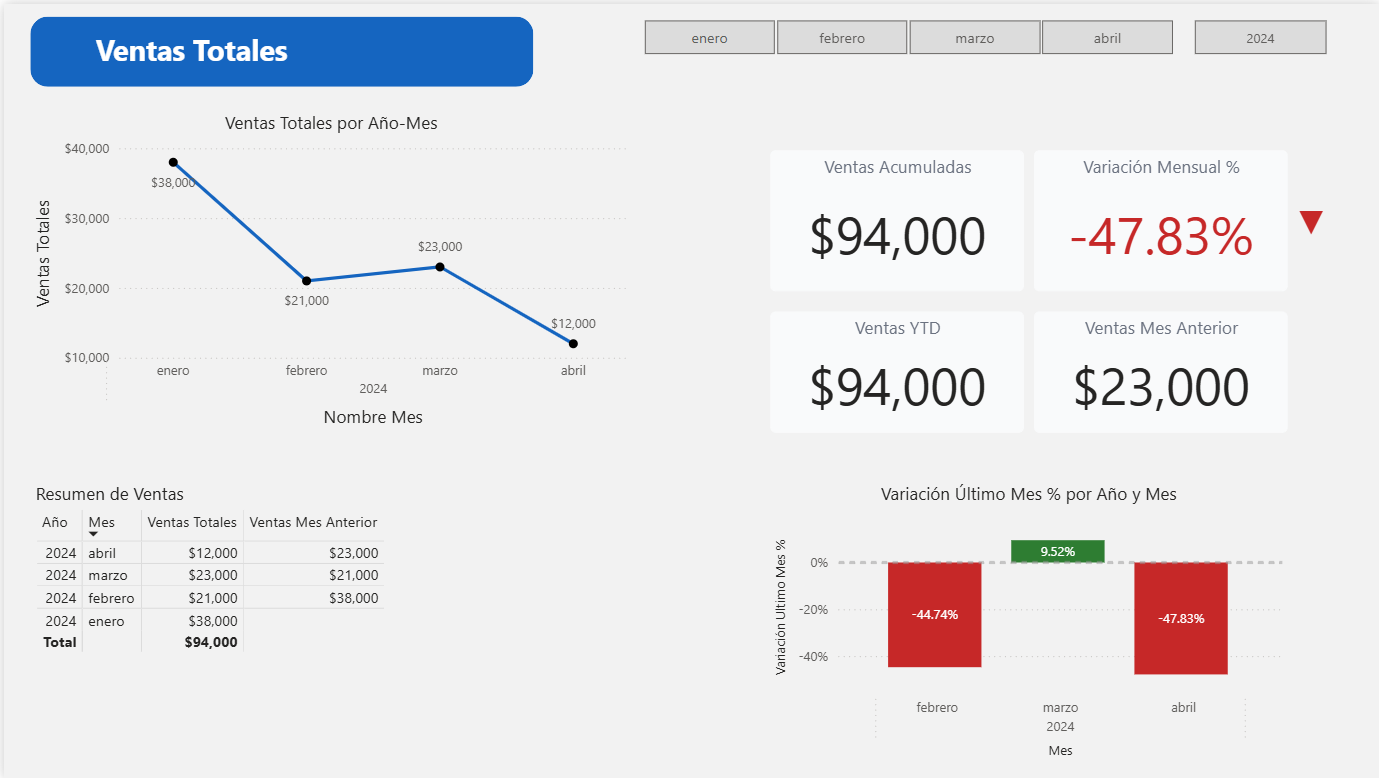

The page's visual inventory and layout, read from the dashboard file:
{"tool":"powerbi","page":{"name":"Página 1","canvas":[1280,720],"ordinal":0},"visuals":[{"type":"tableEx","title":"Resumen de Ventas","fields":{"Values":["DimFecha.Año","DimFecha.Nombre Mes","Measure_DAX.Ventas Mensuales","Measure_DAX.Ventas Mes Anterior"]},"box":[24.3,444.3,545.7,262.9],"z":0},{"type":"lineChart","title":"Ventas Totales por Año-Mes","fields":{"Category":["DimFecha.Año","DimFecha.Nombre Mes"],"Y":["Measure_DAX.Ventas Mensuales"]},"box":[24.3,98.6,560,300],"z":1000},{"type":"columnChart","fields":{"Category":["DimFecha.Año","DimFecha.Nombre Mes"],"Y":["Measure_DAX.Variación Último Mes %"]},"box":[712.9,444.3,481.4,262.9],"z":2000},{"type":"card","fields":{"Values":["Measure_DAX.Variación Último Mes % __"]},"box":[958.6,135.7,235.7,131.4],"z":3000},{"type":"card","title":"Ventas  YTD","fields":{"Values":["Measure_DAX.Ventas YTD (Tarjeta)"]},"box":[712.9,285.7,235.7,112.9],"z":4000},{"type":"slicer","fields":{"Values":["DimFecha.Año"]},"box":[1081.4,8.6,172.9,45.7],"z":5000},{"type":"slicer","fields":{"Values":["DimFecha.Nombre Mes"]},"box":[570,8.6,541.4,45.7],"z":6000},{"type":"card","title":"Ventas Acumuladas","fields":{"Values":["Measure_DAX.Ventas Totales"]},"box":[712.9,135.7,235.7,131.4],"z":7000},{"type":"card","title":"Ventas Mes Anterior","fields":{"Values":["Measure_DAX.Ventas Mes Anterior (Último Mes)"]},"box":[958.6,285.7,235.7,112.9],"z":8000},{"type":"card","fields":{"Values":["Formatos.Icono Variación"]},"box":[1178.6,170,74.3,64.3],"z":9000},{"type":"shape","box":[24.5,11.8,468.2,65.5],"z":10000},{"type":"textbox","box":[80,20,263.3,48.3],"z":11000}]}

Visuals, with their boxes in screenshot pixels (x1, y1, x2, y2), scaled from the page's 1280x720 canvas onto the 1379x778 screenshot:
"Resumen de Ventas" tableEx: left=26, top=480, right=614, bottom=764
"Ventas Totales por Año-Mes" lineChart: left=26, top=107, right=629, bottom=431
columnChart - DimFecha.Año x DimFecha.Nombre Mes: left=768, top=480, right=1287, bottom=764
card - Measure_DAX.Variación Último Mes % __: left=1033, top=147, right=1287, bottom=289
"Ventas  YTD" card: left=768, top=309, right=1022, bottom=431
slicer - DimFecha.Año: left=1165, top=9, right=1351, bottom=59
slicer - DimFecha.Nombre Mes: left=614, top=9, right=1197, bottom=59
"Ventas Acumuladas" card: left=768, top=147, right=1022, bottom=289
"Ventas Mes Anterior" card: left=1033, top=309, right=1287, bottom=431
card - Formatos.Icono Variación: left=1270, top=184, right=1350, bottom=253
shape: left=26, top=13, right=531, bottom=84
textbox: left=86, top=22, right=370, bottom=74
